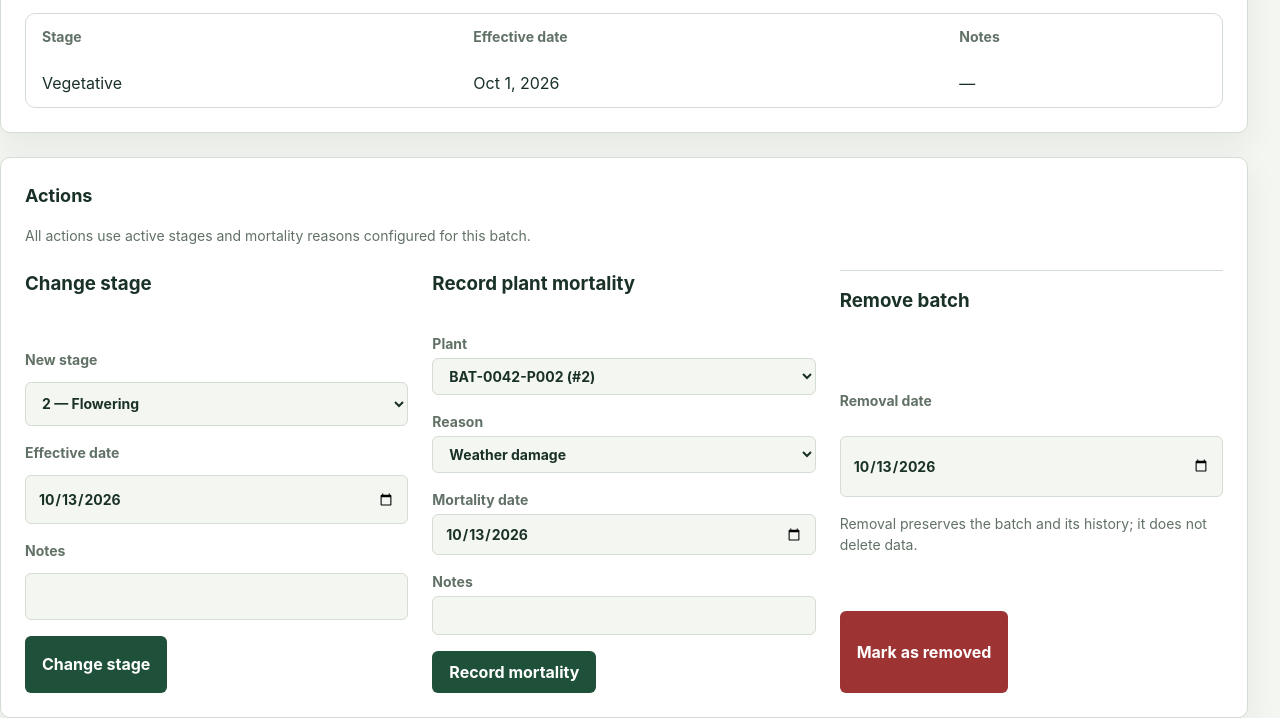
Test: BatchDetails actions › hides mutation controls after confirmed historical removal
(page scrolled)
Click the button "Mark as removed" at [924, 652], box left=840, top=611, right=1008, bottom=693
(page scrolled)
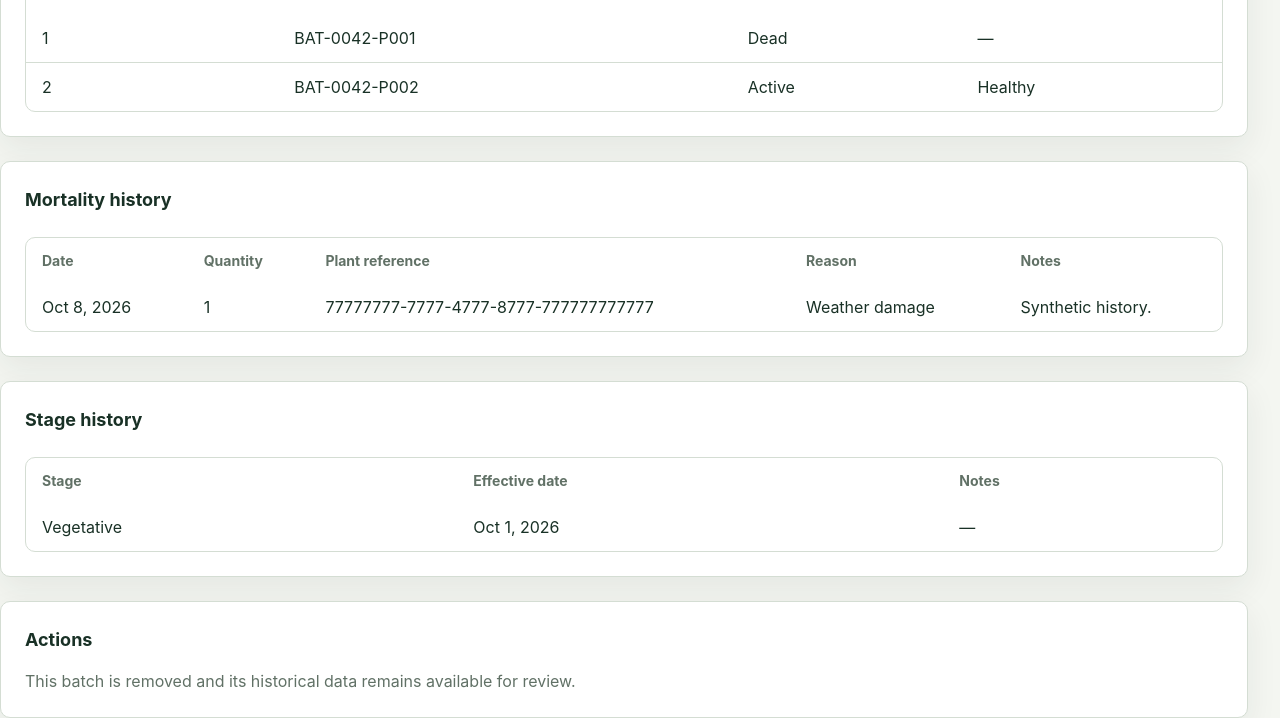
Now the text "This batch is removed" is shown, box left=25, top=671, right=576, bottom=691
Now the button "Record mortality" is gone
